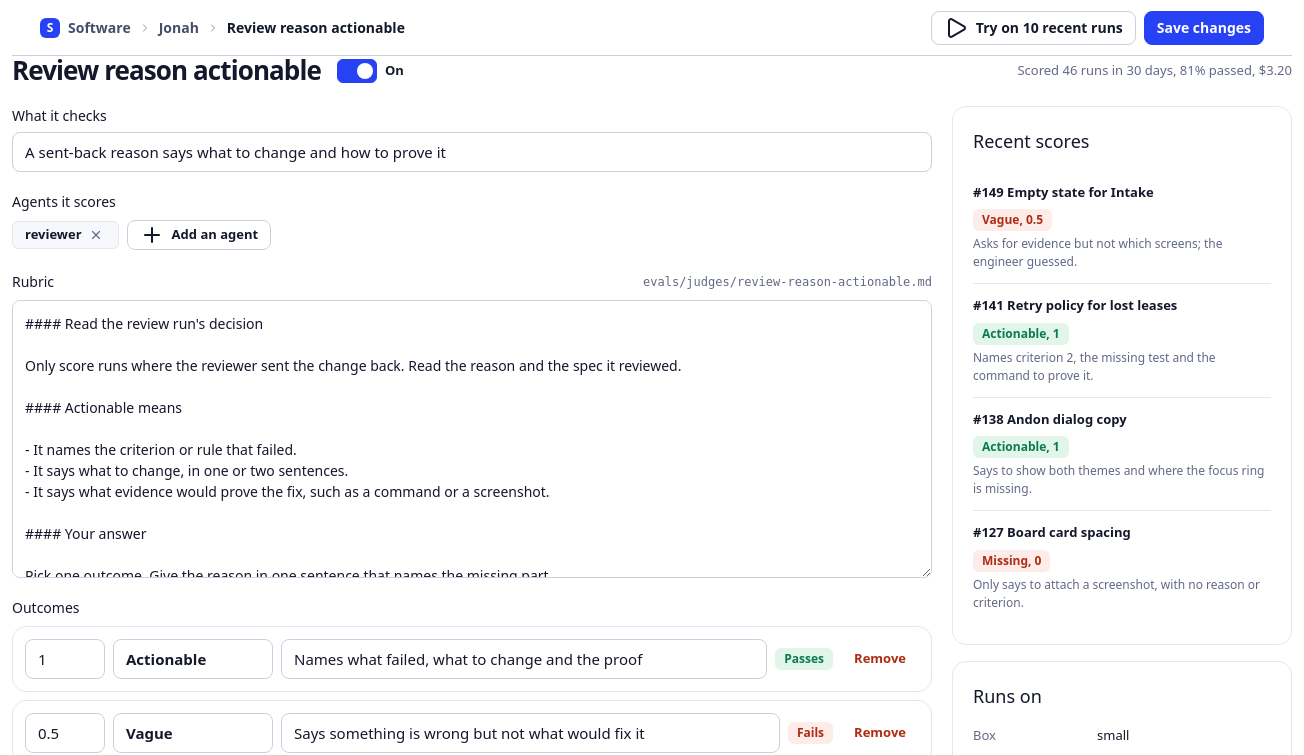
Scenario: editing and saving › tries the judge on the 10 newest runs and says so
This screenshot has width=1304, height=755.
Click the button "Try on 10 recent runs" at coordinates (1033, 28), box left=931, top=10, right=1136, bottom=44
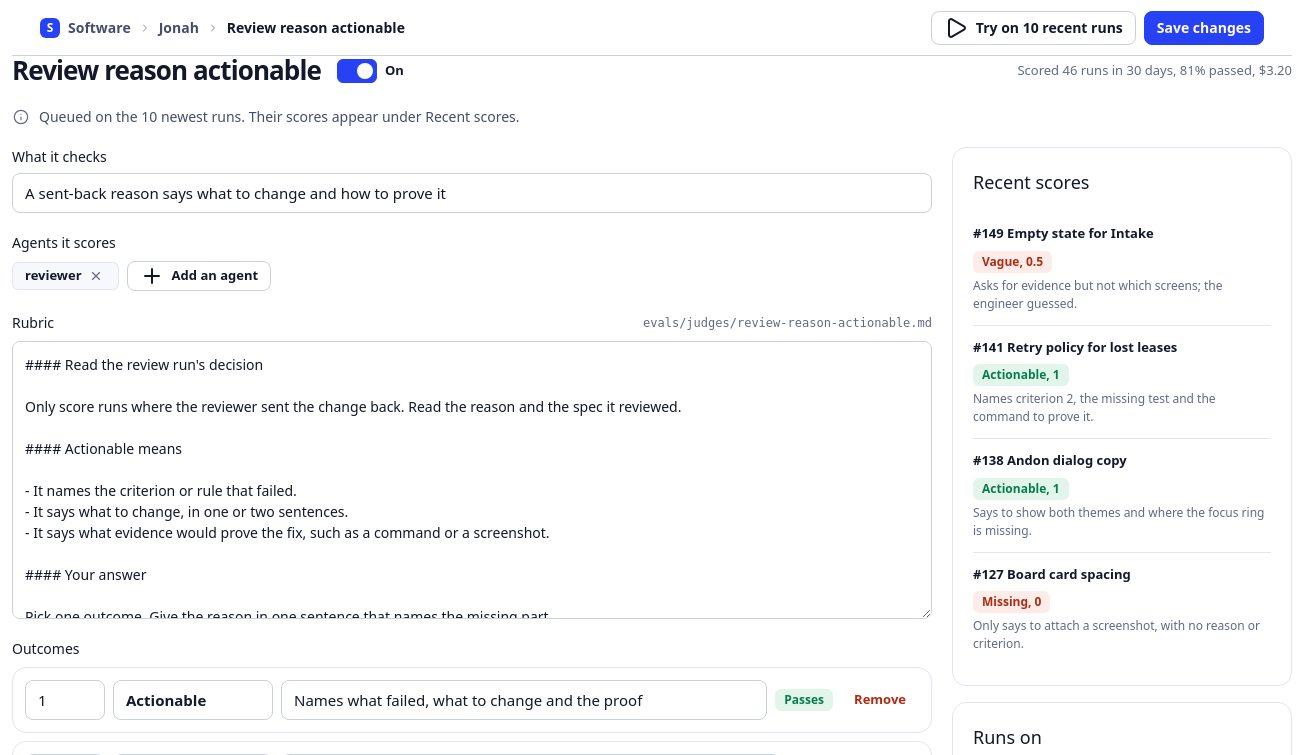
Now the text "Queued on the 10 newest runs" is shown, box left=39, top=107, right=520, bottom=126
